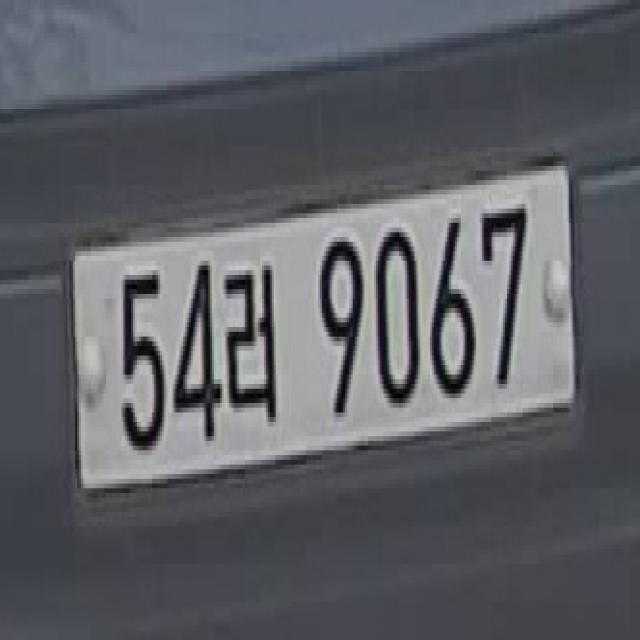0: (372, 190, 432, 441)
4: (172, 214, 230, 484)
5: (106, 242, 179, 469)
6: (428, 209, 482, 422)
7: (478, 180, 536, 389)
9: (314, 204, 368, 422)
leo: (218, 237, 283, 436)
license_plate: (68, 128, 580, 536)
